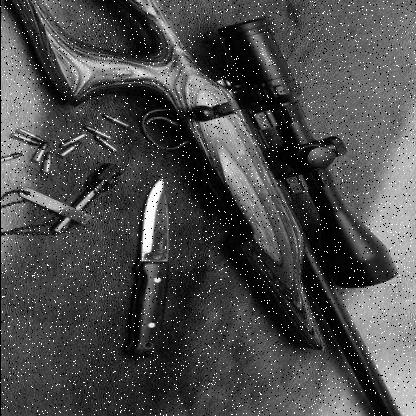rifle: (24, 0, 395, 358)
